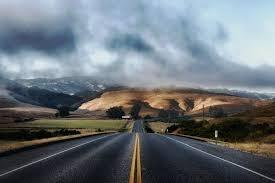road: (0, 132, 134, 182), (140, 133, 274, 182)
